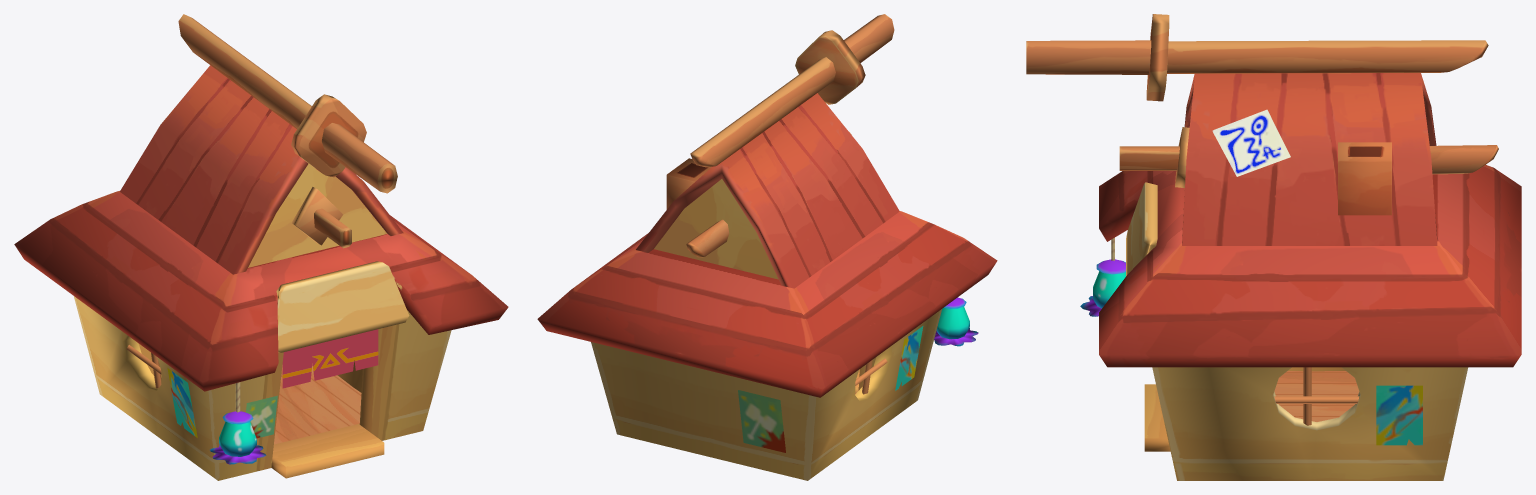
The model's file is SM_Weaponsmith_lv2.fbx.
3 renders of one model, left to right at view 1: azimuth 30°, elevation 25°; view 2: azimuth 150°, elevation 25°; view 3: azimuth 270°, elevation 25°, orthographic. The views are drawn at different scales.
Visible parts, largest first — view 1: SM_Weapon_Smith_lv2; view 2: SM_Weapon_Smith_lv2; view 3: SM_Weapon_Smith_lv2.
Boxes of the visible parts, box(x1,y1,x2,y2) form: SM_Weapon_Smith_lv2: box(14, 14, 508, 480); SM_Weapon_Smith_lv2: box(537, 14, 997, 480); SM_Weapon_Smith_lv2: box(1026, 14, 1521, 480).
Size of the model in its own units: 580 by 660 by 721.
Materials: 1 (1 with a texture image).
